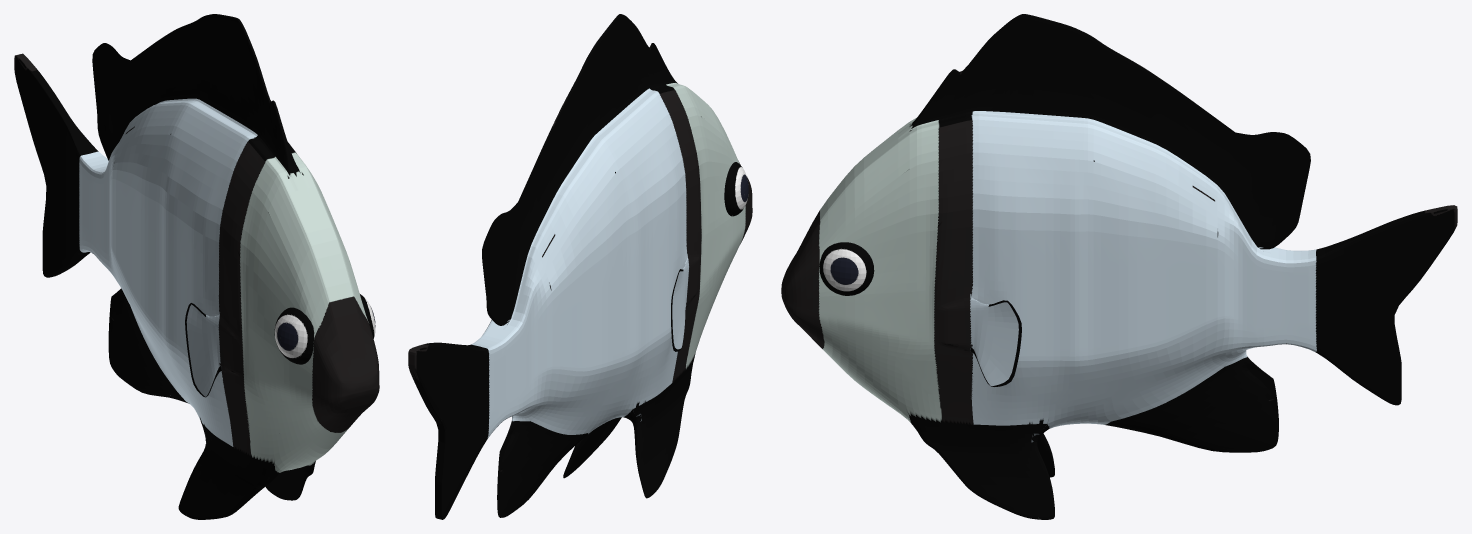
File: damselfish.fbx
3 views of the same model, side by side, from view 1: azimuth 30°, elevation 25°; view 2: azimuth 150°, elevation 25°; view 3: azimuth 270°, elevation 25° (orthographic). The views are drawn at different scales.
Parts seen in each view (by area): view 1: Cube; view 2: Cube; view 3: Cube.
Boxes of the visible parts, bbox=[...] form: Cube: bbox=[14, 14, 379, 519]; Cube: bbox=[408, 14, 752, 519]; Cube: bbox=[781, 14, 1457, 519].
Bounding box in the file's own units: 0.7109 × 3.01 × 3.8.
Materials: 2 (2 with a texture image).
